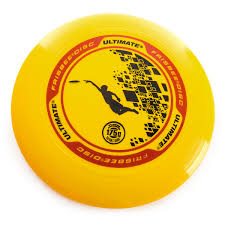disc: (13, 15, 215, 213)
